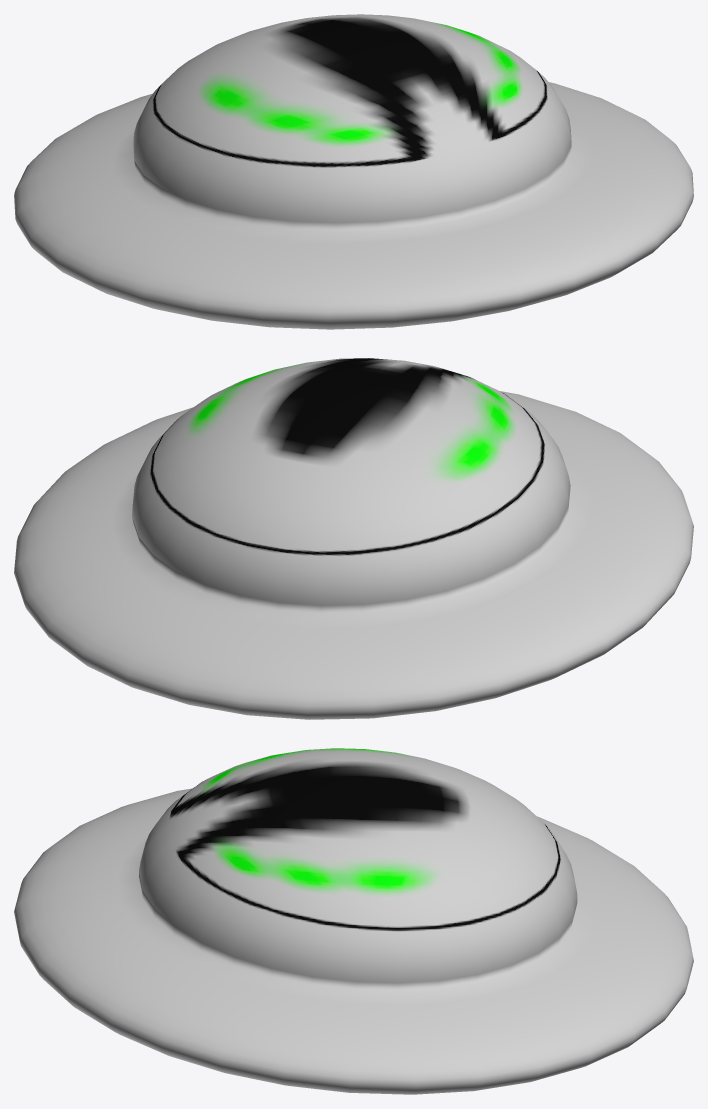
Rendered from ufo2.fbx.
3 views of the same model, one above another, from view 1: azimuth 30°, elevation 25°; view 2: azimuth 150°, elevation 25°; view 3: azimuth 270°, elevation 25° (orthographic).
Parts seen in each view (by area): view 1: Sphere.001; view 2: Sphere.001; view 3: Sphere.001.
Part boxes in pixels (x1,y1,x2,y2): Sphere.001: (14,14,693,329); Sphere.001: (14,358,693,719); Sphere.001: (14,748,693,1094).
Size of the model in its own units: 6.24 by 2.1 by 6.22.
